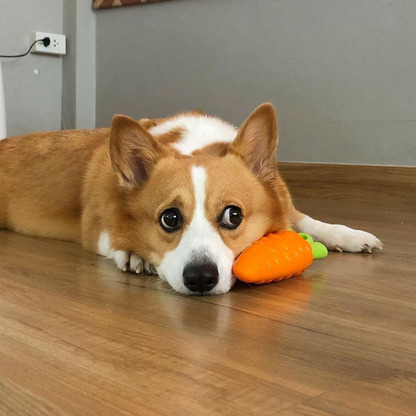Corgi: (20, 103, 398, 301)
